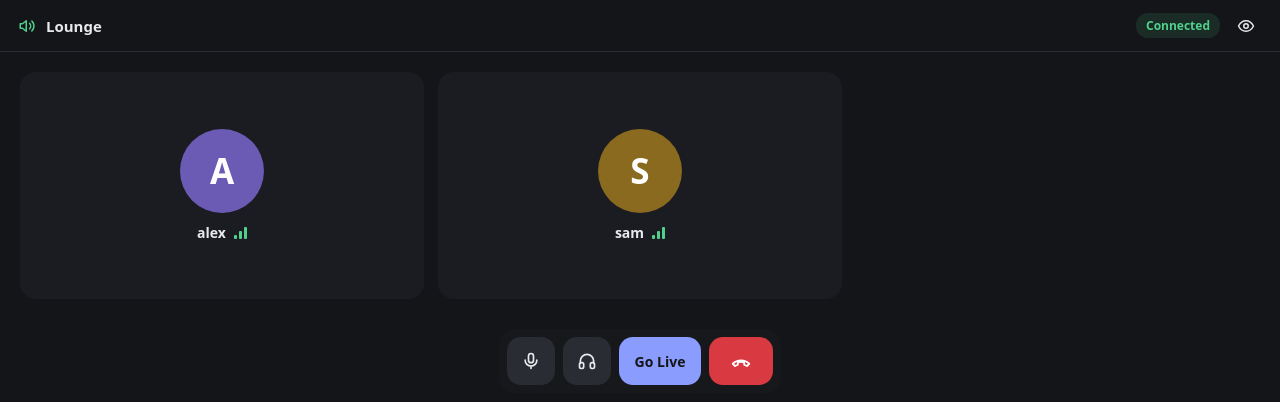
Test case: ParticipantMenu › an_avatar_click_opens_the_menu_not_a_popover
The width and height of the screenshot is (1280, 402).
What coordinates should you click on to do the following:
click the button with class "avatar-btn" showing "S"
I would click on:
 (640, 171)
Its box is [598,129,682,213].
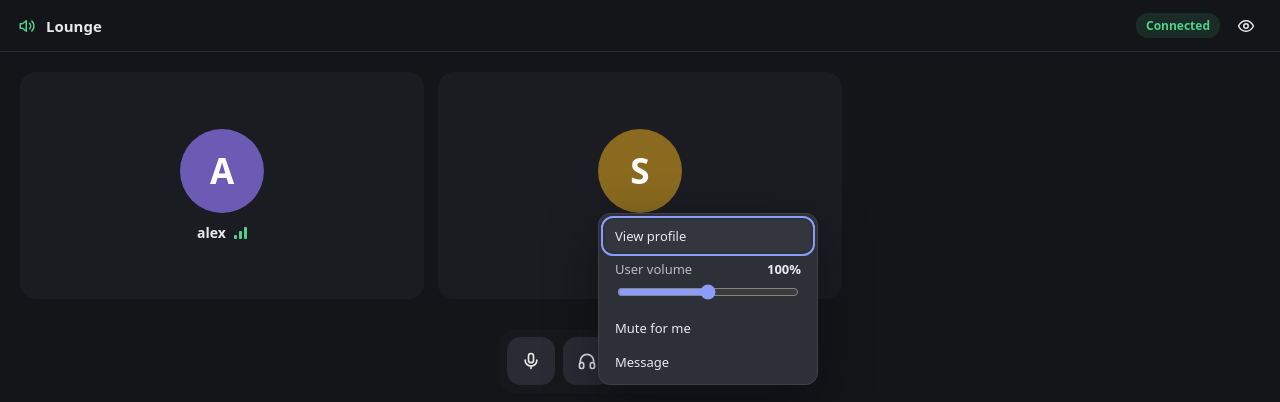
Now the menu is shown, box [598,213,818,385]
